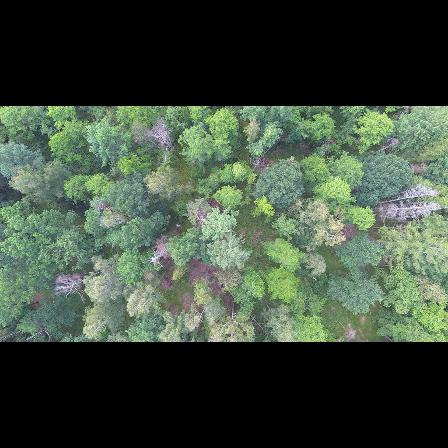Dead: (53, 268, 102, 299), (377, 184, 440, 205), (150, 114, 172, 160), (397, 205, 448, 221), (371, 204, 440, 215), (148, 238, 175, 265)
